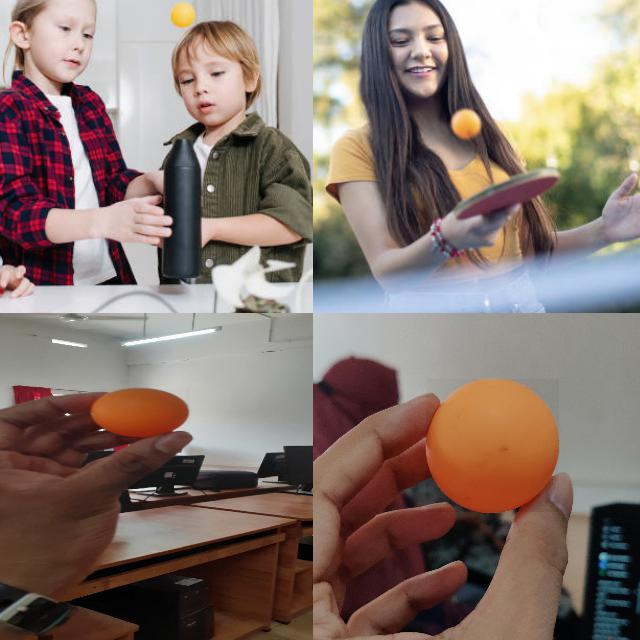ping-pong-ball: (426, 379, 560, 513), (90, 388, 192, 439), (451, 109, 481, 138), (171, 3, 195, 27)
